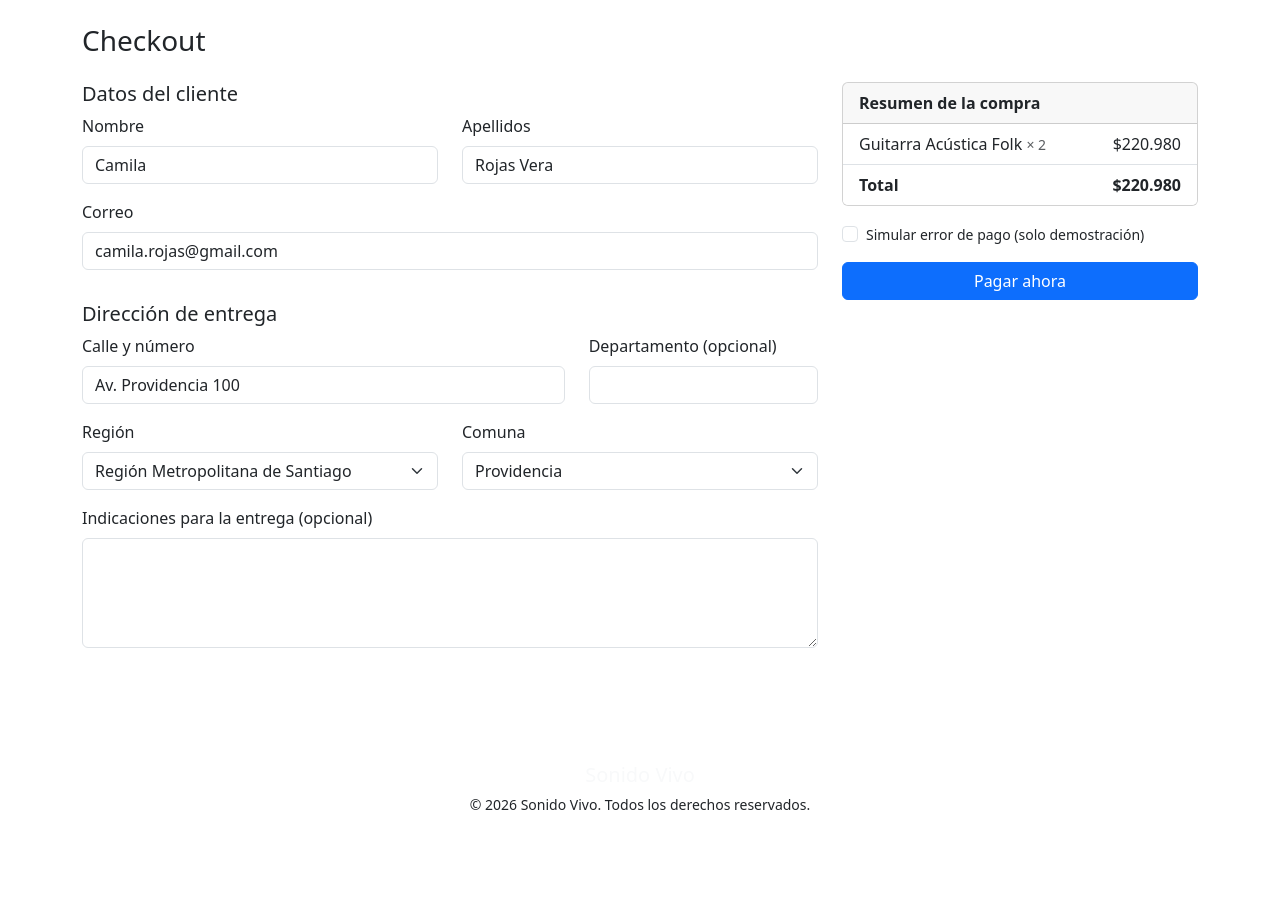
Flujo de pago (POST /boletas) › checkout con datos inválidos no avanza y muestra errores
The image size is (1280, 900).
Clear the field labelled "Nombre" at point(260, 165), box [82,146,438,184]
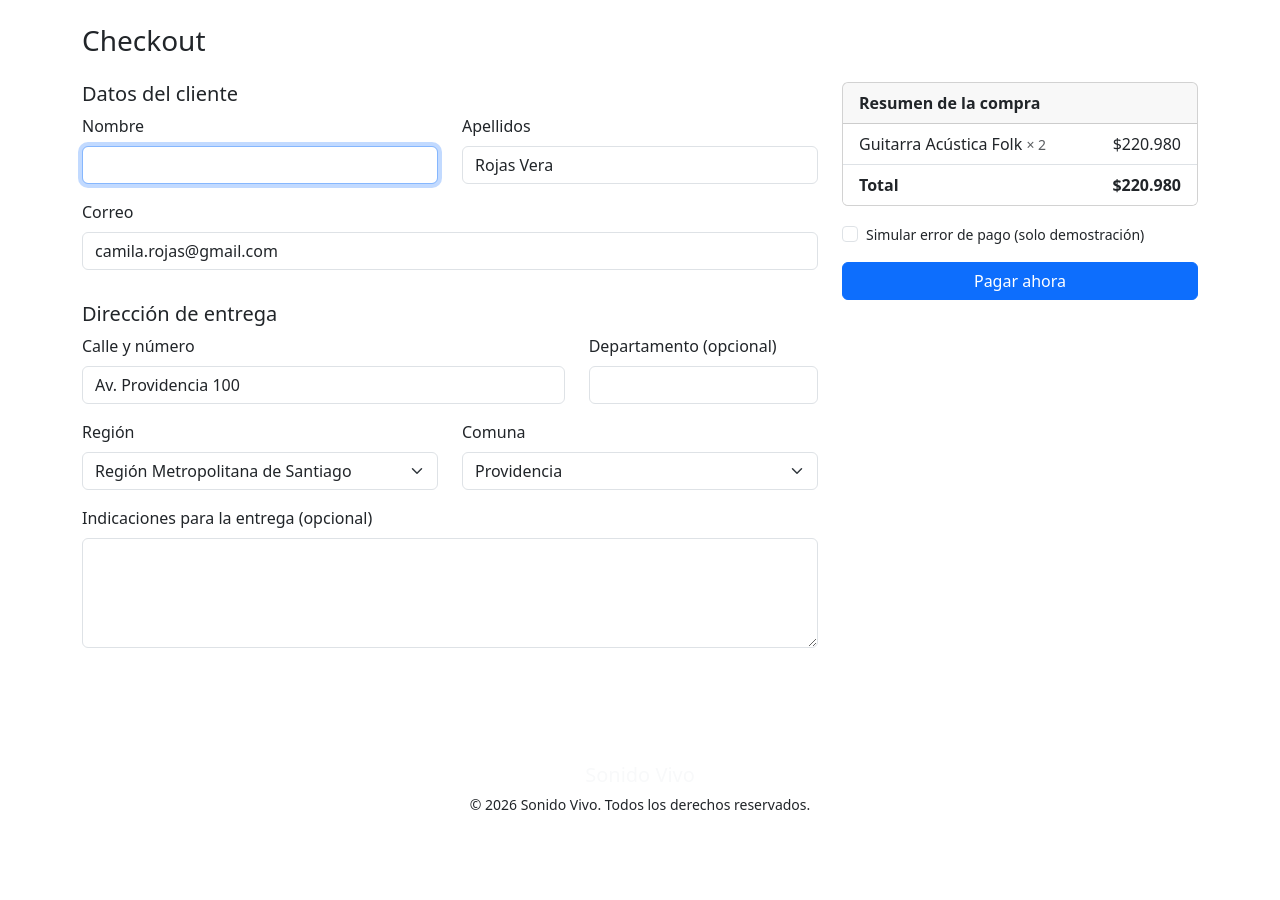
Click the button "Pagar ahora" at point(1020, 281), box [842,262,1198,300]
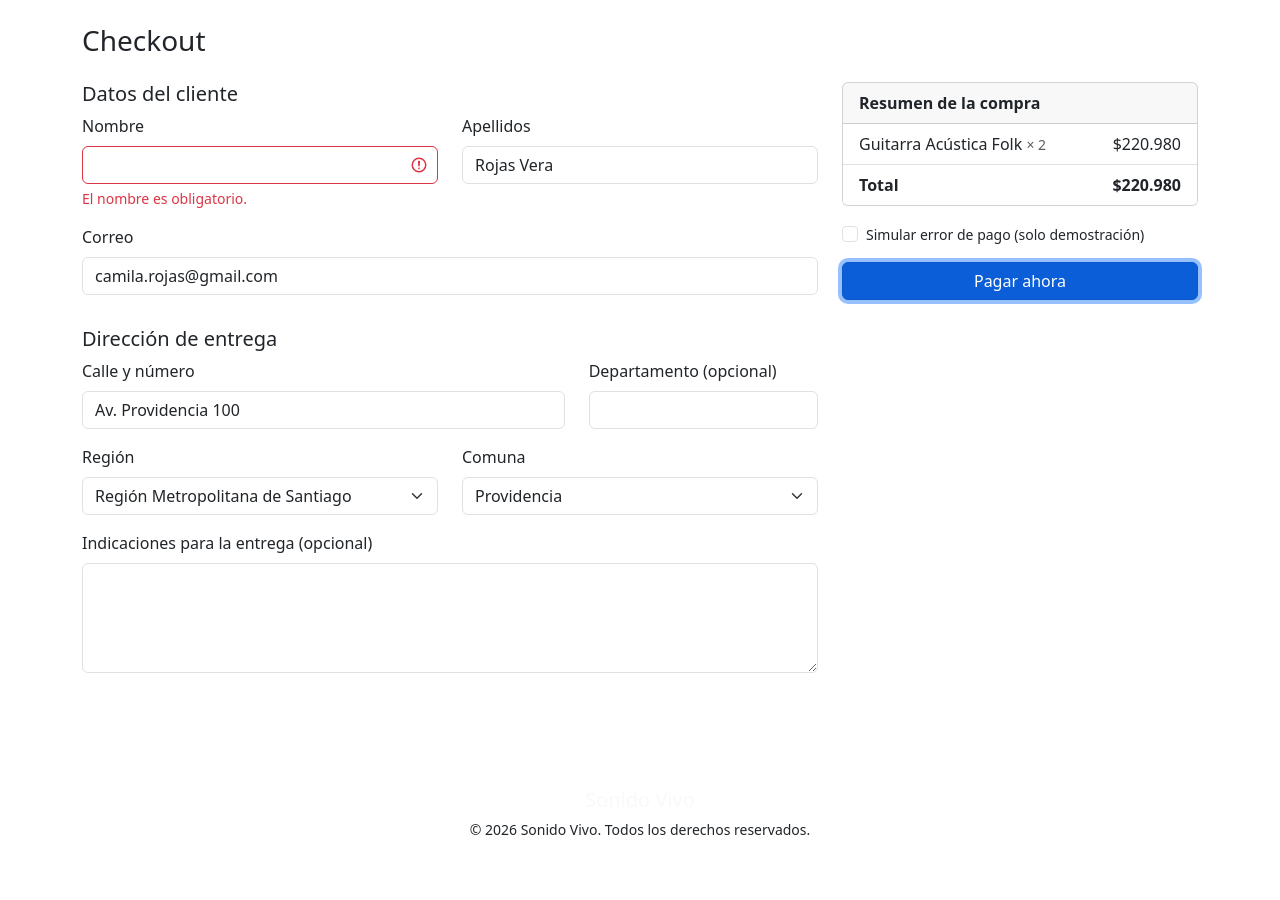
expect the text "El nombre es obligatorio." is shown: met, box [82,189,247,208]
